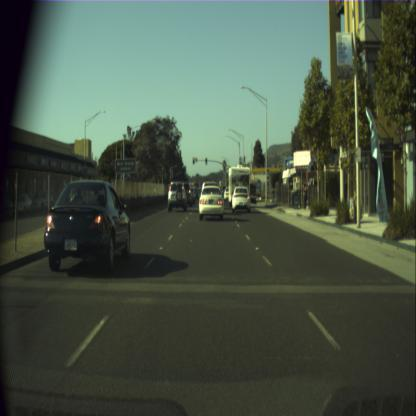Green: (204, 157, 208, 165)
Red: (192, 156, 195, 165)
